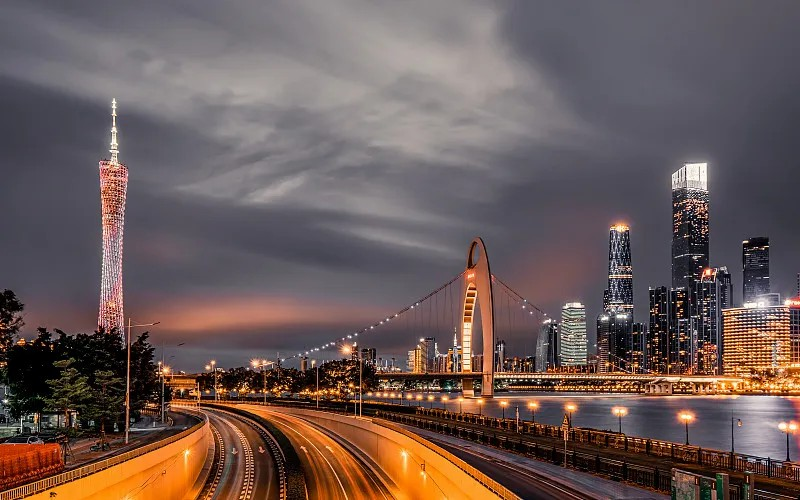Canton: (96, 96, 128, 348)
